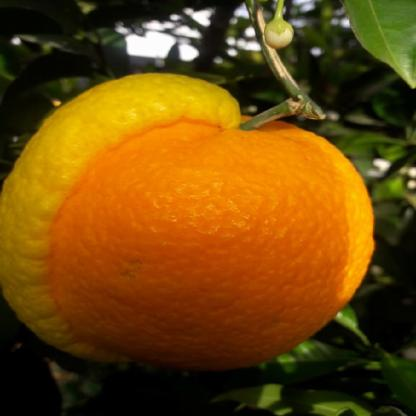orange: (30, 112, 380, 380)
